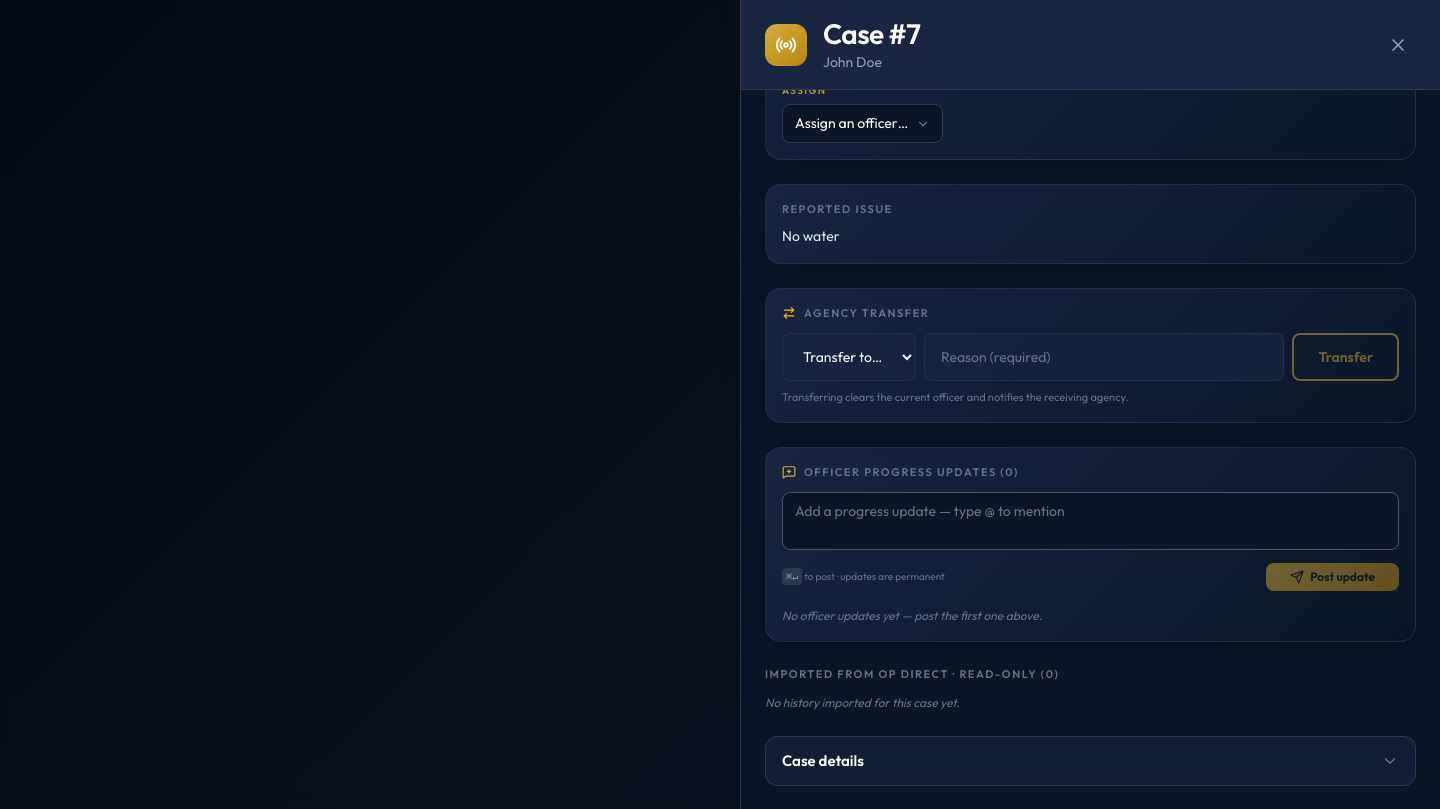
Test case: region metadata (populated column) › shows an em dash for a case with no derivable region
The image size is (1440, 809).
(page scrolled)
Expected: the text "No water" is shown, [782,227,840,245]
Click the button "Case details".
click(823, 761)  # box [766,737,1415,785]
(page scrolled)
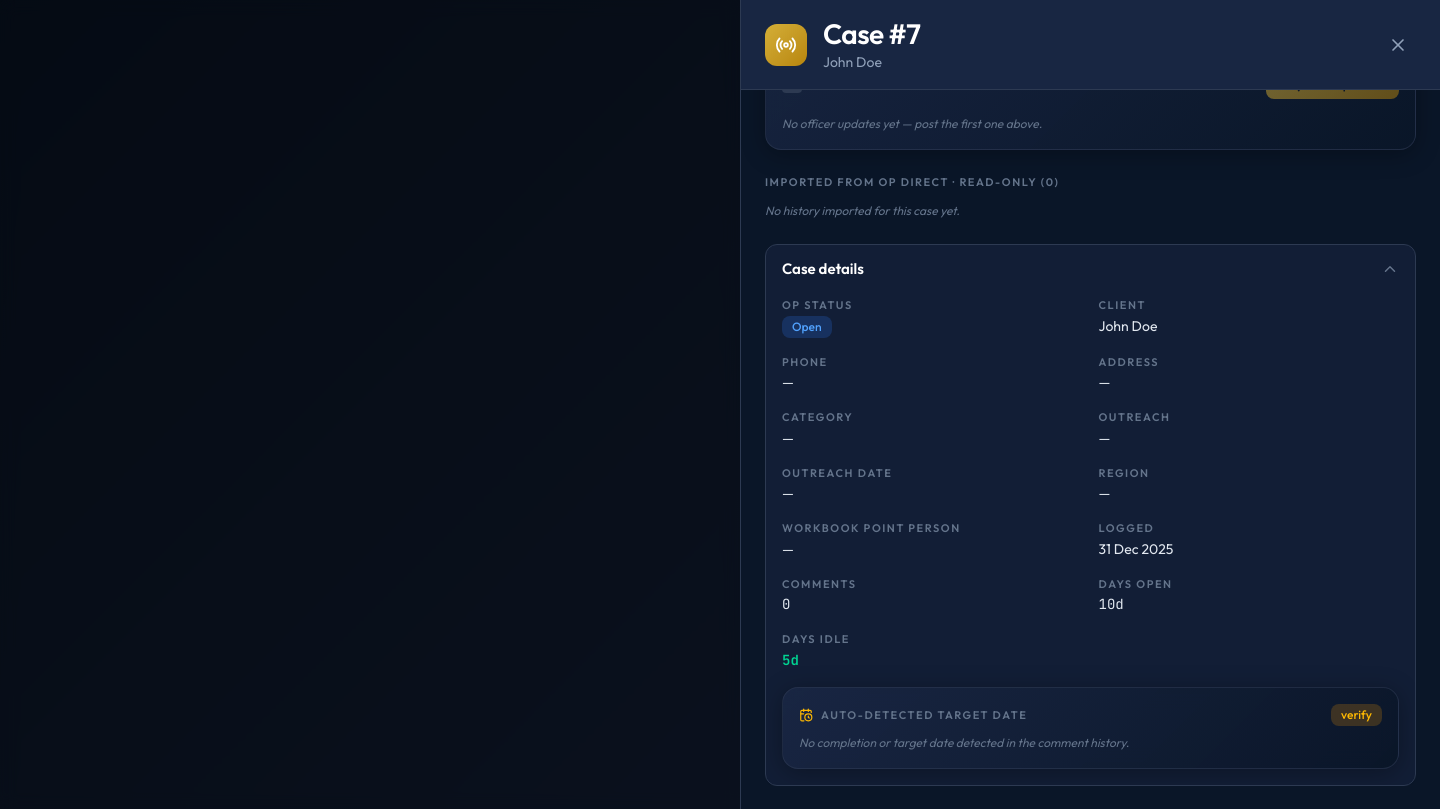
Now the text "—" below "Region" is shown, box [1098,484,1110,502]
